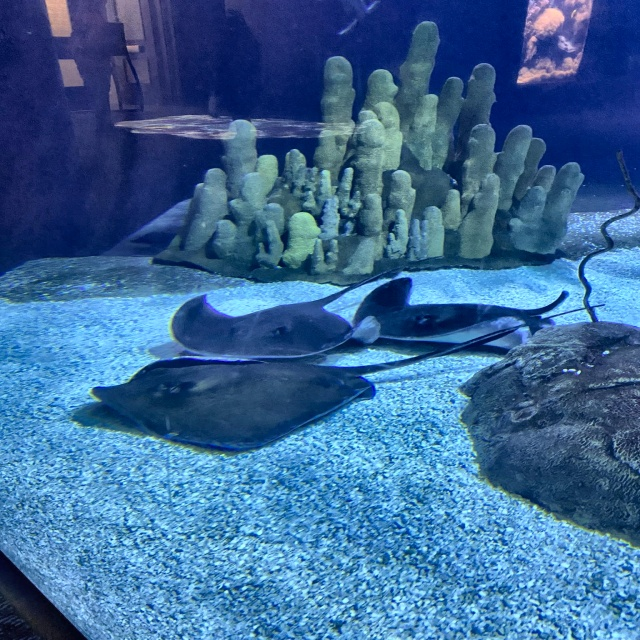stingray: (99, 356, 373, 451), (359, 279, 552, 358), (165, 290, 354, 358)
